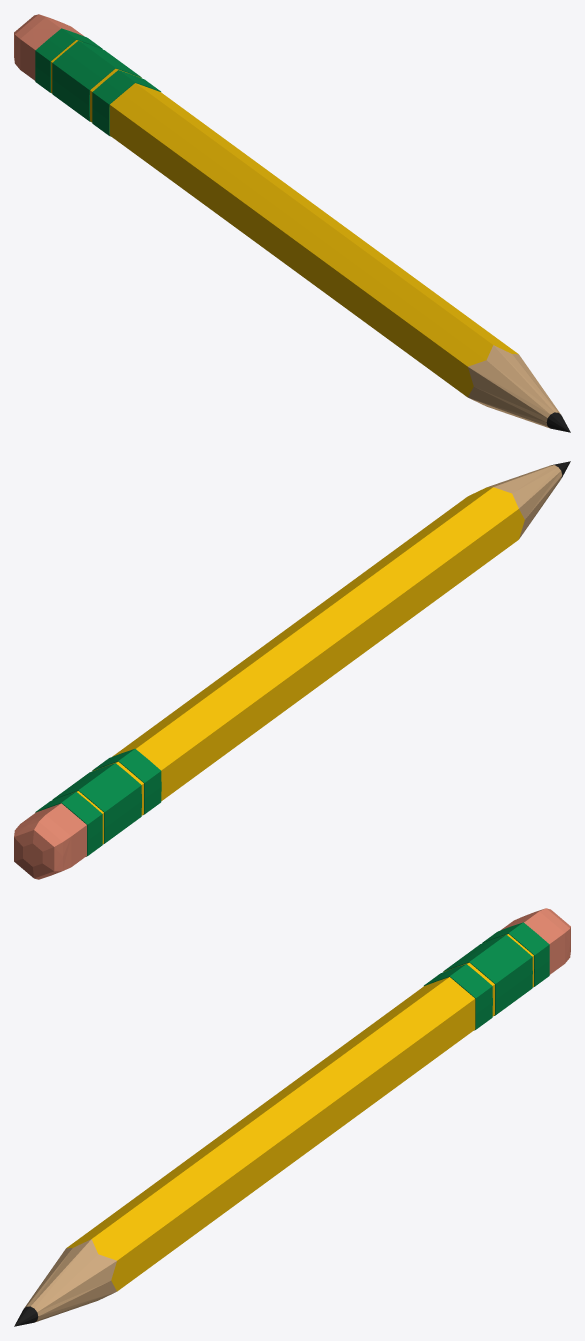
The model's file is pencil.glb.
3 renders of one model, top to bottom at view 1: azimuth 30°, elevation 25°; view 2: azimuth 150°, elevation 25°; view 3: azimuth 330°, elevation 25°, orthographic.
Parts seen in each view (by area): view 1: Node; view 2: Node; view 3: Node.
Part boxes in pixels (x1=…): Node: x1=14, y1=14, x2=570, y2=432; Node: x1=14, y1=461, x2=570, y2=879; Node: x1=14, y1=908, x2=570, y2=1326.
Size of the model in its own units: 0.6895 by 0.7903 by 12.23.
1 material, 1 textured.
